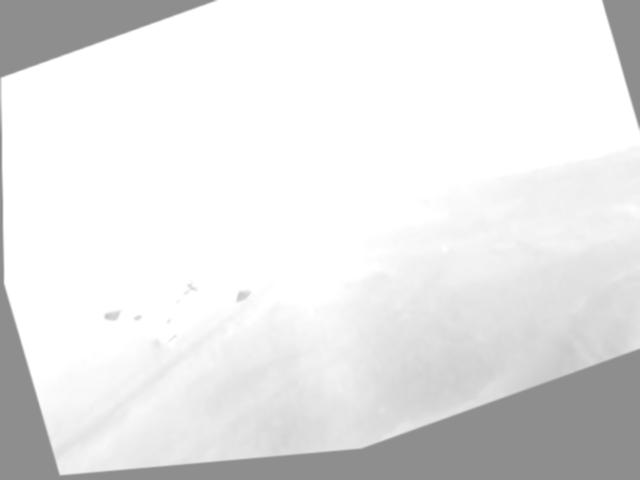hedef: (92, 246, 267, 383)
